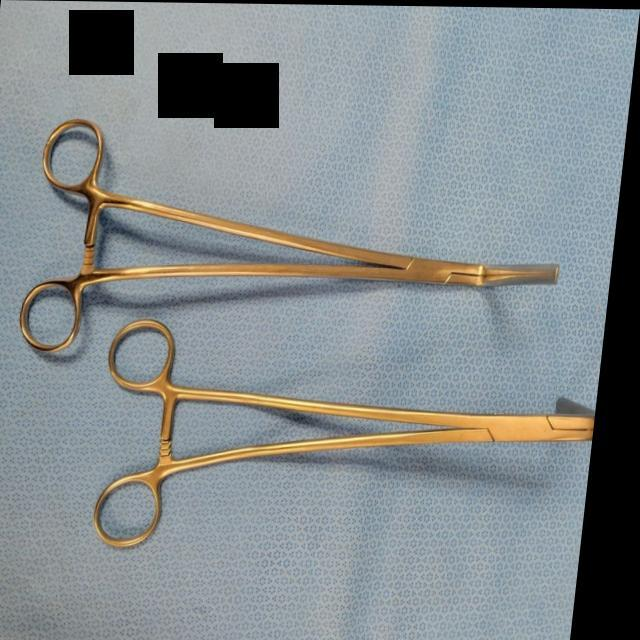Right Angle Colon Clamp: (26, 119, 578, 362), (97, 310, 613, 564)
